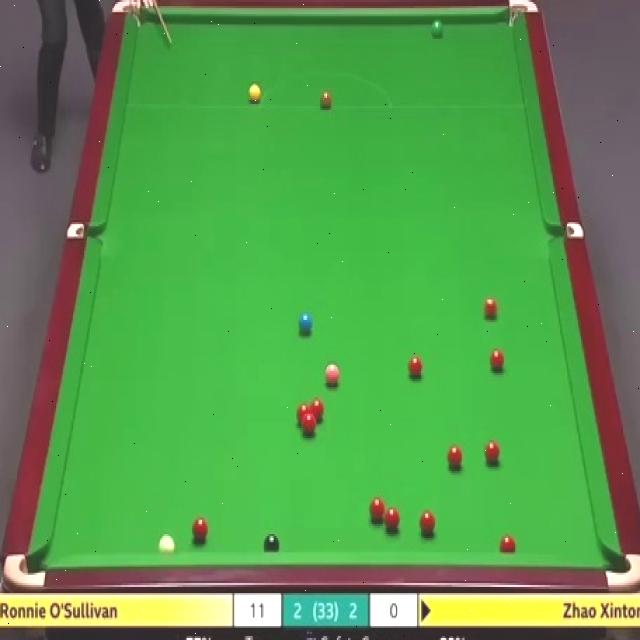black-ball: (263, 534, 282, 554)
blue-ball: (297, 312, 314, 334)
brown-ball: (320, 87, 332, 108)
green-ball: (430, 20, 444, 39)
pink-ball: (324, 364, 341, 389)
red-ball: (418, 511, 436, 539), (482, 295, 500, 323), (446, 445, 465, 471), (191, 516, 208, 543), (368, 498, 386, 523), (385, 504, 400, 534), (485, 440, 502, 465), (408, 354, 424, 380), (296, 403, 311, 429), (489, 348, 504, 374), (498, 534, 516, 552), (302, 416, 318, 436), (311, 399, 324, 423)
white-ball: (158, 532, 176, 554)
yellow-ball: (248, 86, 260, 102)
